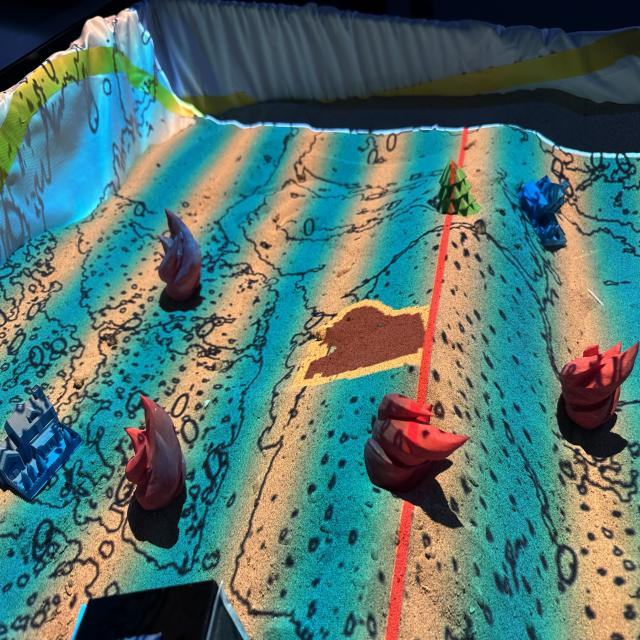fire: (364, 392, 470, 489), (560, 340, 640, 431), (125, 392, 185, 512), (158, 208, 202, 298)
house: (0, 384, 84, 501), (517, 174, 571, 249)
tree: (436, 158, 482, 216)
